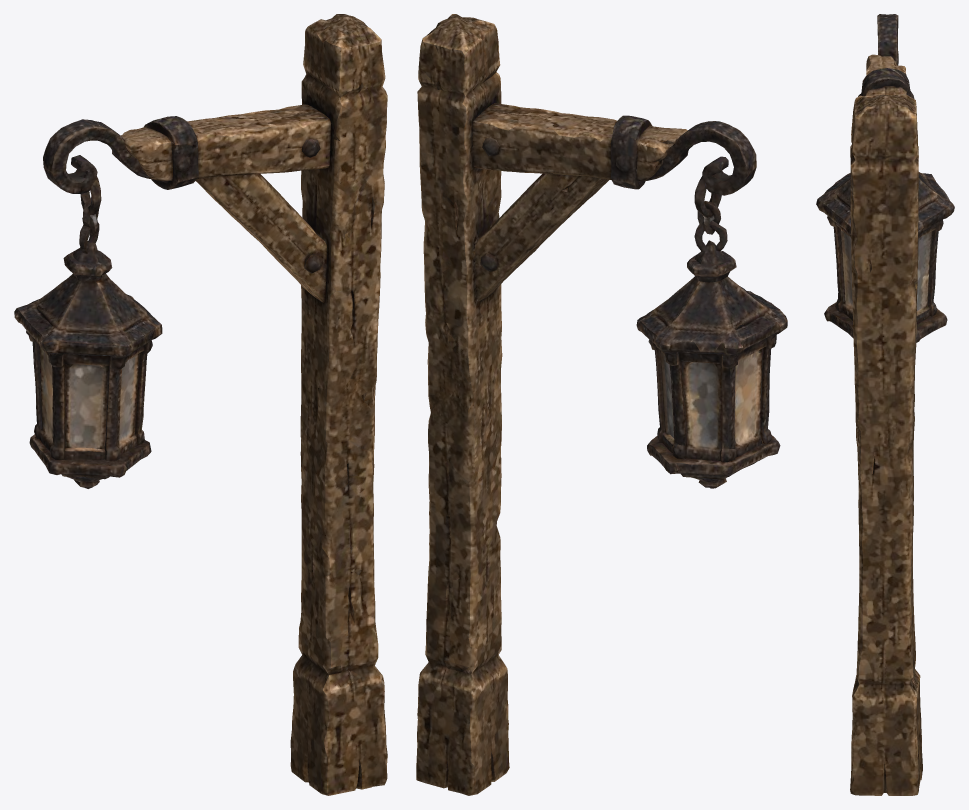
File: lantern_lite.glb
3 views of the same model, side by side, from view 1: azimuth 30°, elevation 25°; view 2: azimuth 150°, elevation 25°; view 3: azimuth 270°, elevation 25° (orthographic). The views are drawn at different scales.
Parts seen in each view (by area): view 1: geometry_0; view 2: geometry_0; view 3: geometry_0.
Boxes of the visible parts, left/top/right/bottom form: geometry_0: left=14, top=14, right=387, bottom=795; geometry_0: left=416, top=14, right=787, bottom=795; geometry_0: left=816, top=14, right=954, bottom=795.
Size of the model in its own units: 0.8983 by 1.9 by 0.3472.
1 material, 1 textured.
